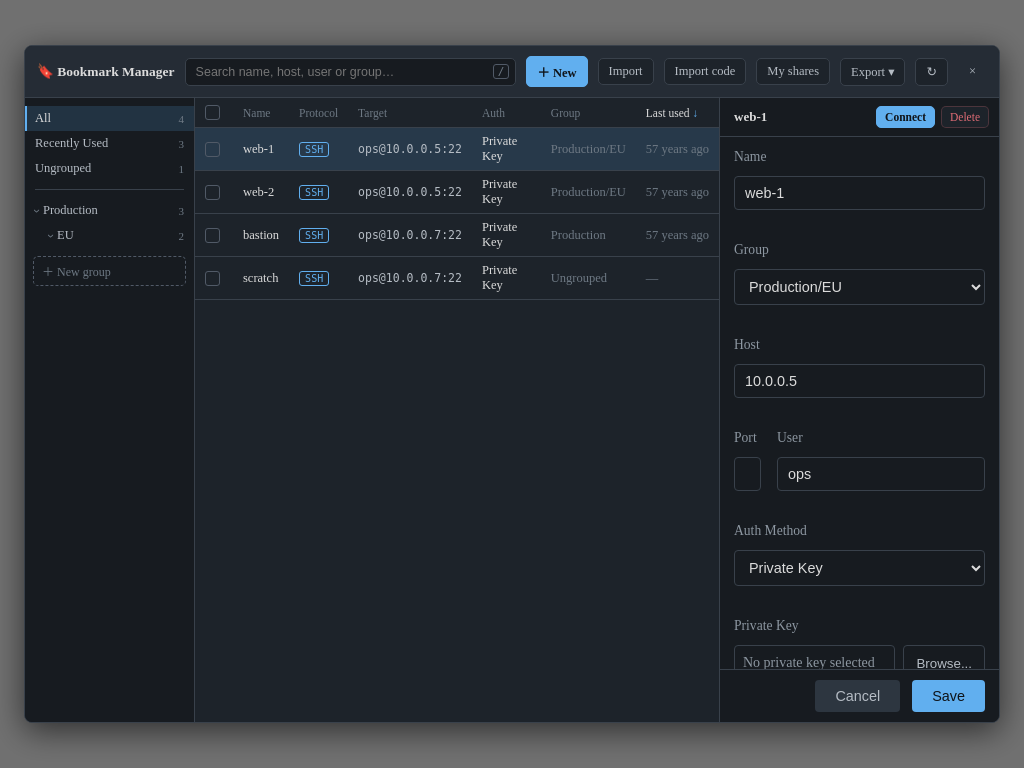
BookmarkManager › keeps the detail column on a row that is still visible
Expected: the text with class "bm-detail-name" reads "web-1", [734,109,767,124]
Click the button with class "bm-tree-item" showing "Ungrouped 1" at (110, 169), box [25,156,194,181]
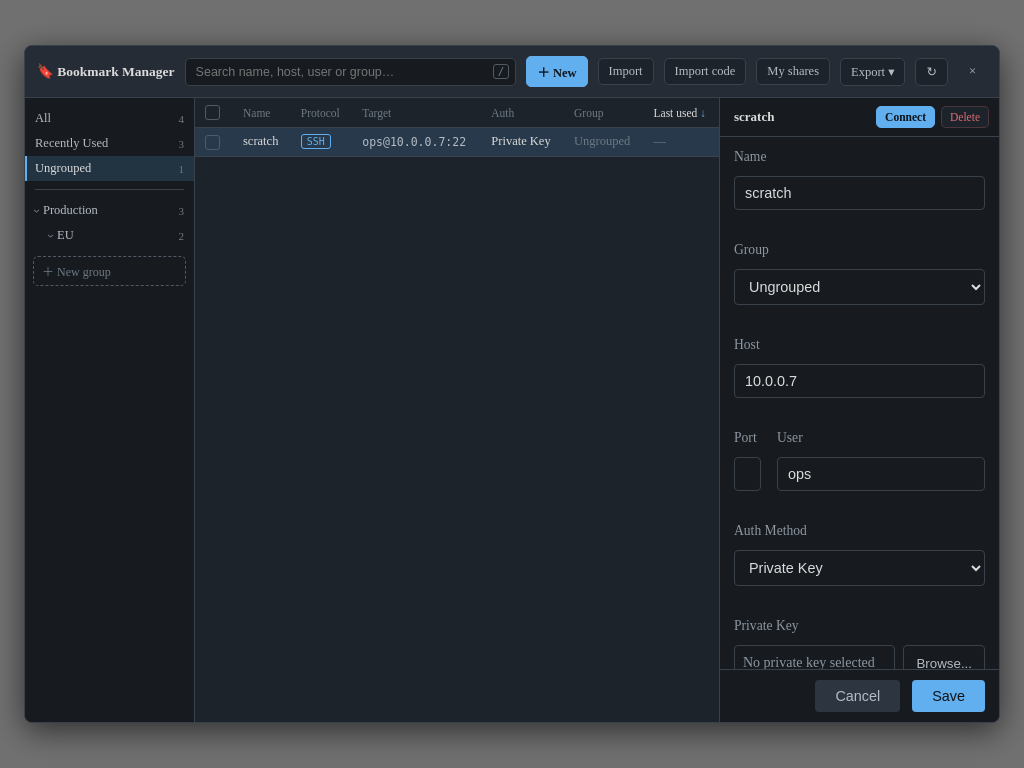
Now the text with class "bm-detail-name" reads "scratch", box [734,109,774,124]
